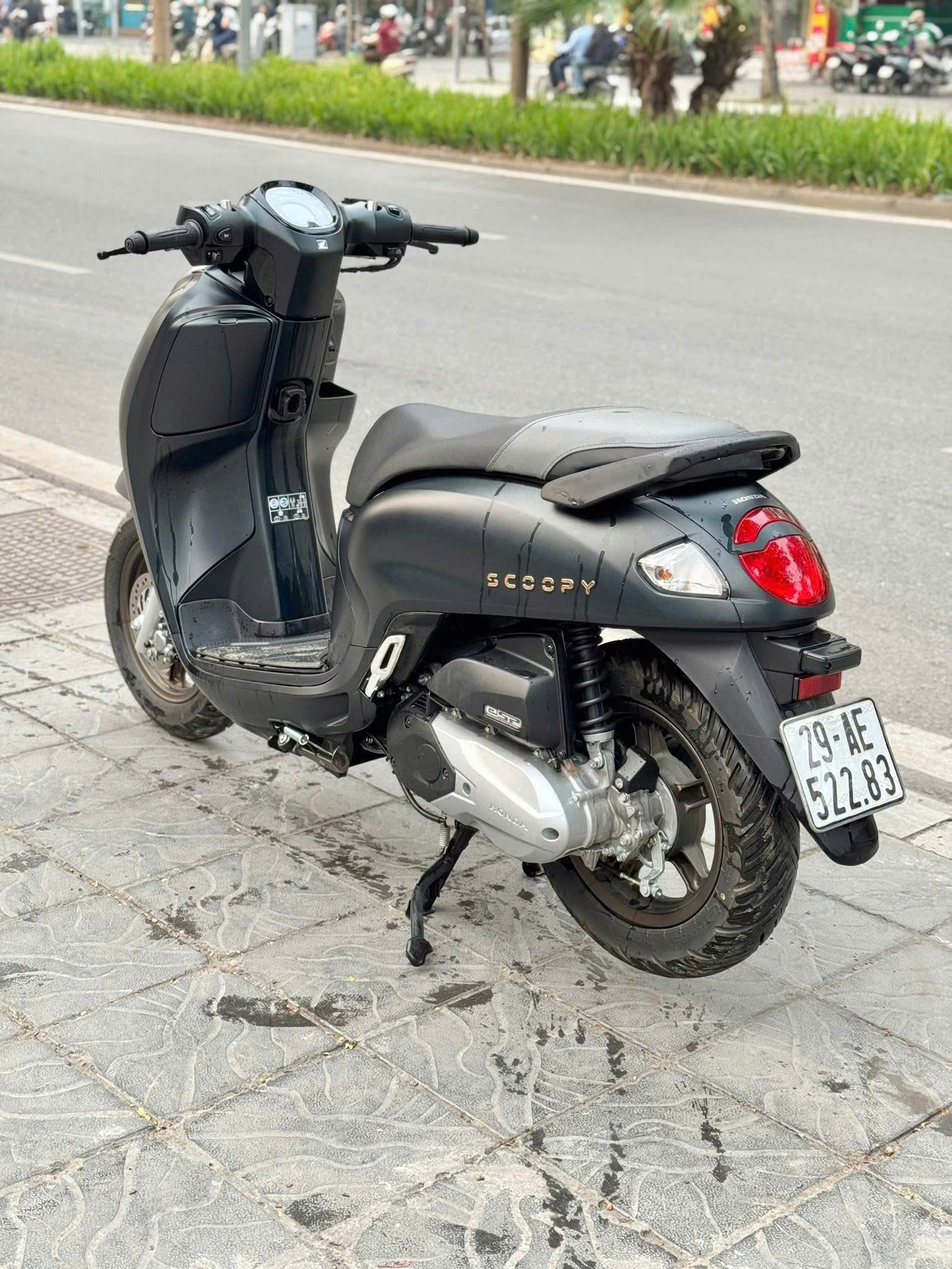Bien-so: (781, 694, 910, 832)
